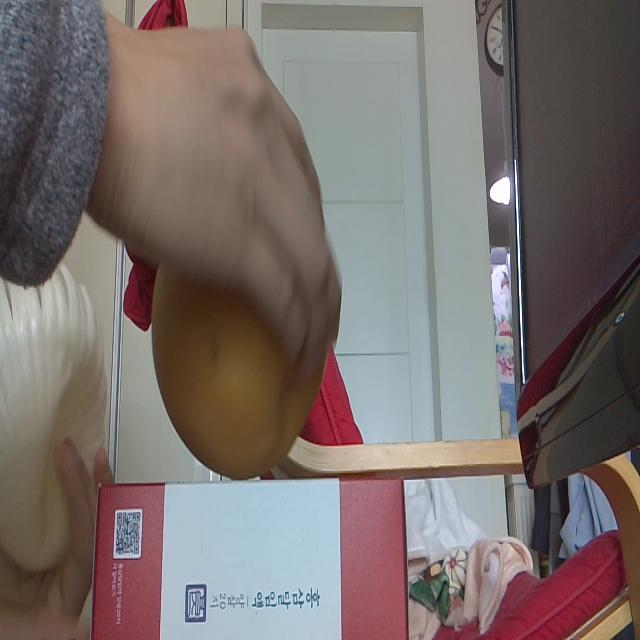pear: (151, 167, 333, 475)
